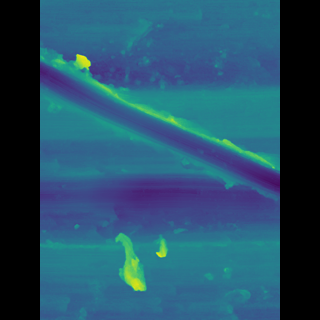Loch: (68, 58, 251, 199), (126, 233, 152, 289)
